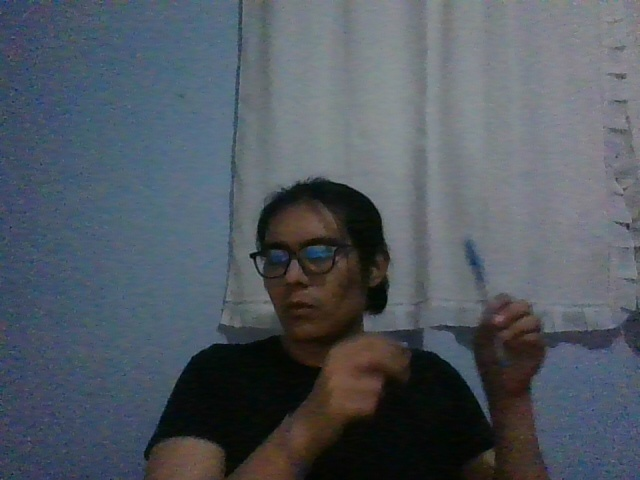pluma: (465, 238, 509, 368)
